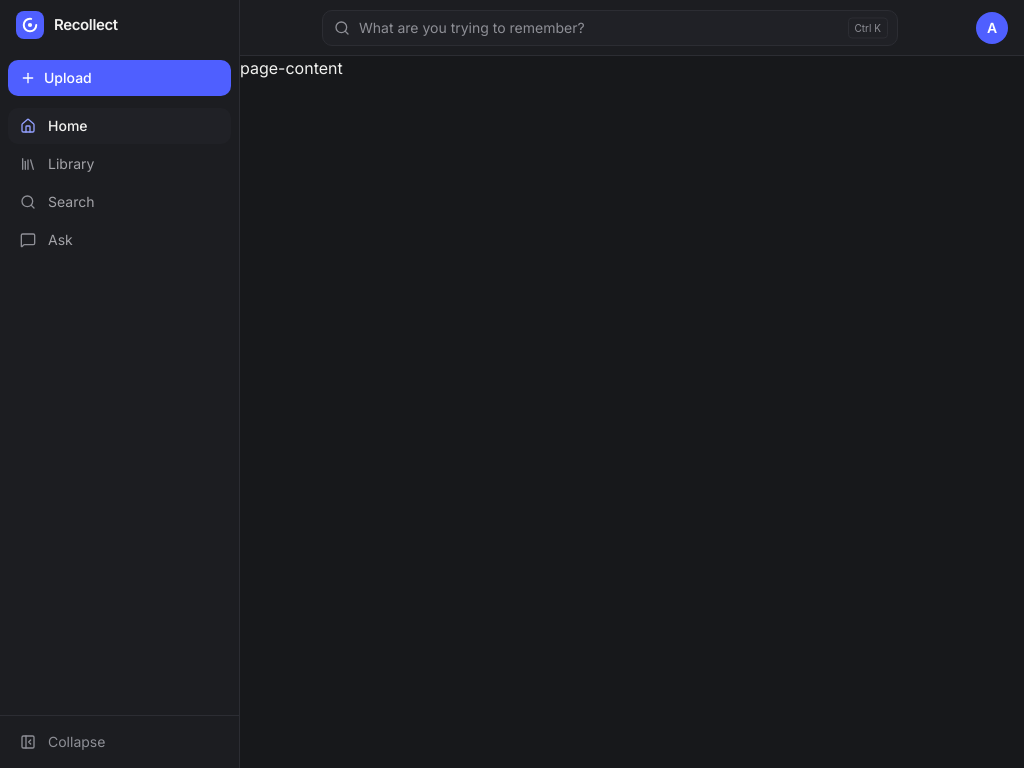
Test: AppShell › opens the global upload dialog from the sidebar and closes it with Escape
Click the button "Upload" at point(120, 78), box x1=8 y1=60 x2=231 y2=96
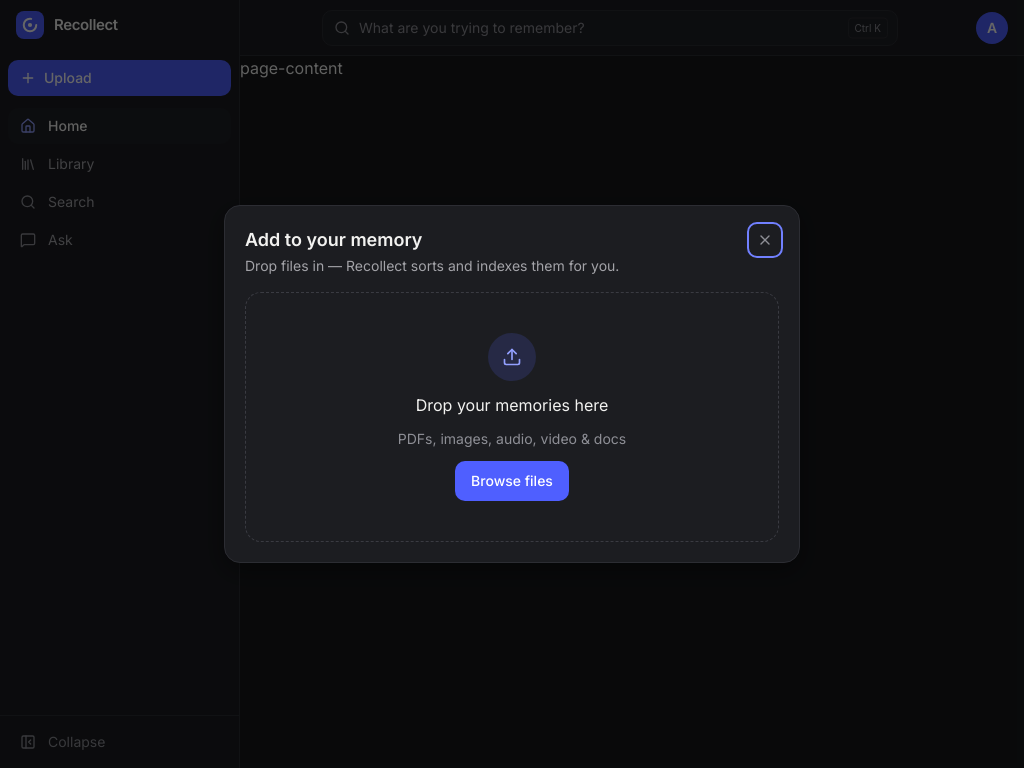
Expected: the dialog "Add to your memory" is shown, x1=224 y1=205 x2=800 y2=563
Press Escape
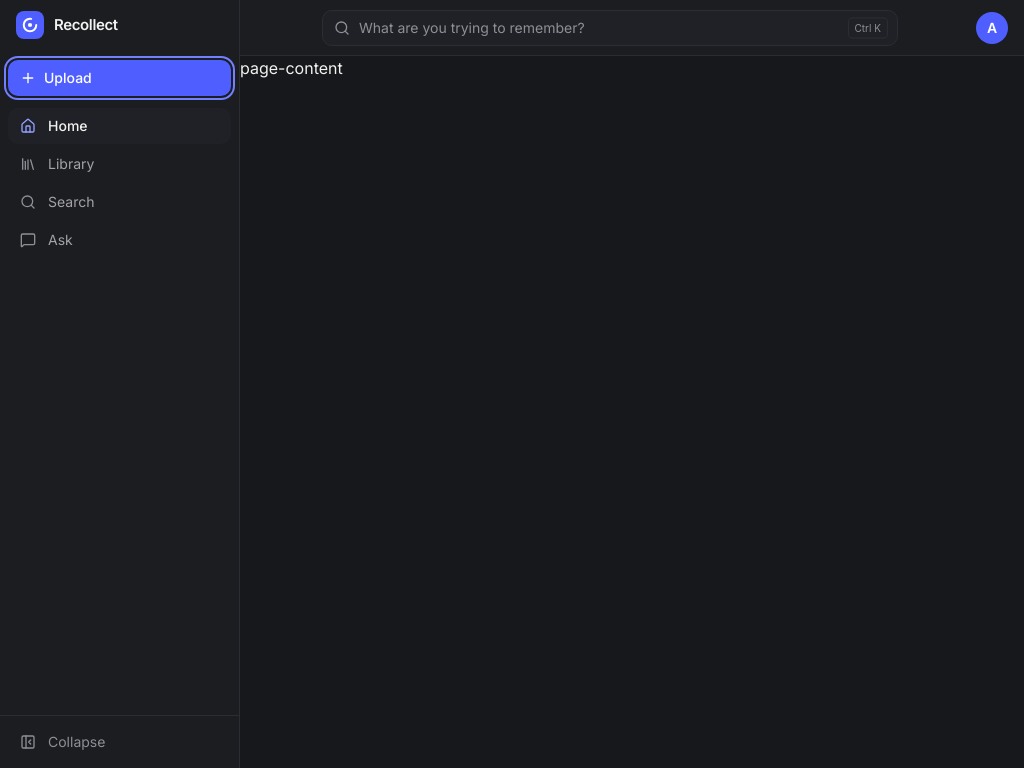
Expected: the heading "Add to your memory" is gone
